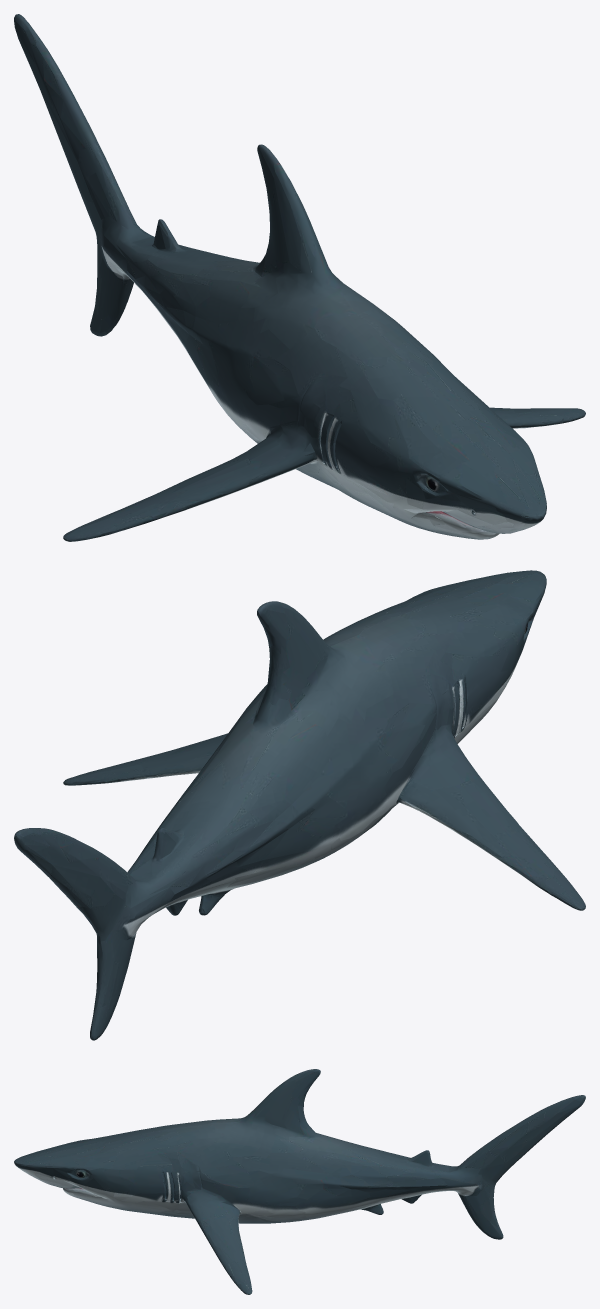
File: requin.glb
The picture shows the model from 3 angles, top to bottom: view 1: azimuth 30°, elevation 25°; view 2: azimuth 150°, elevation 25°; view 3: azimuth 270°, elevation 25°; orthographic projection. The views are drawn at different scales.
Size of the model in its own units: 1.09 by 0.6244 by 1.9.
Materials: 1 (1 with a texture image).
